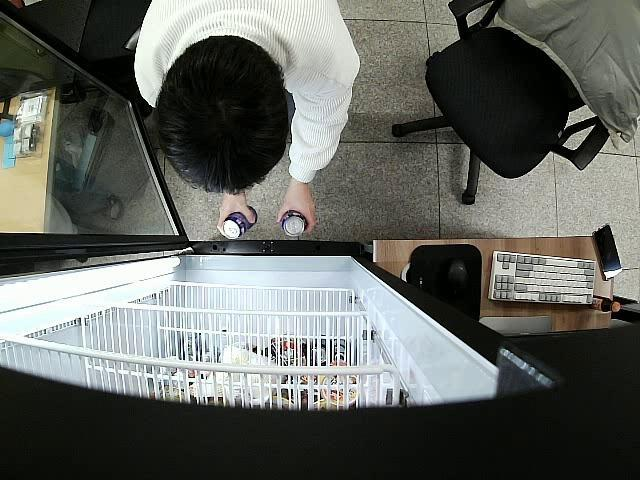14_welchsGrape: (222, 207, 258, 239), (280, 210, 308, 239)
